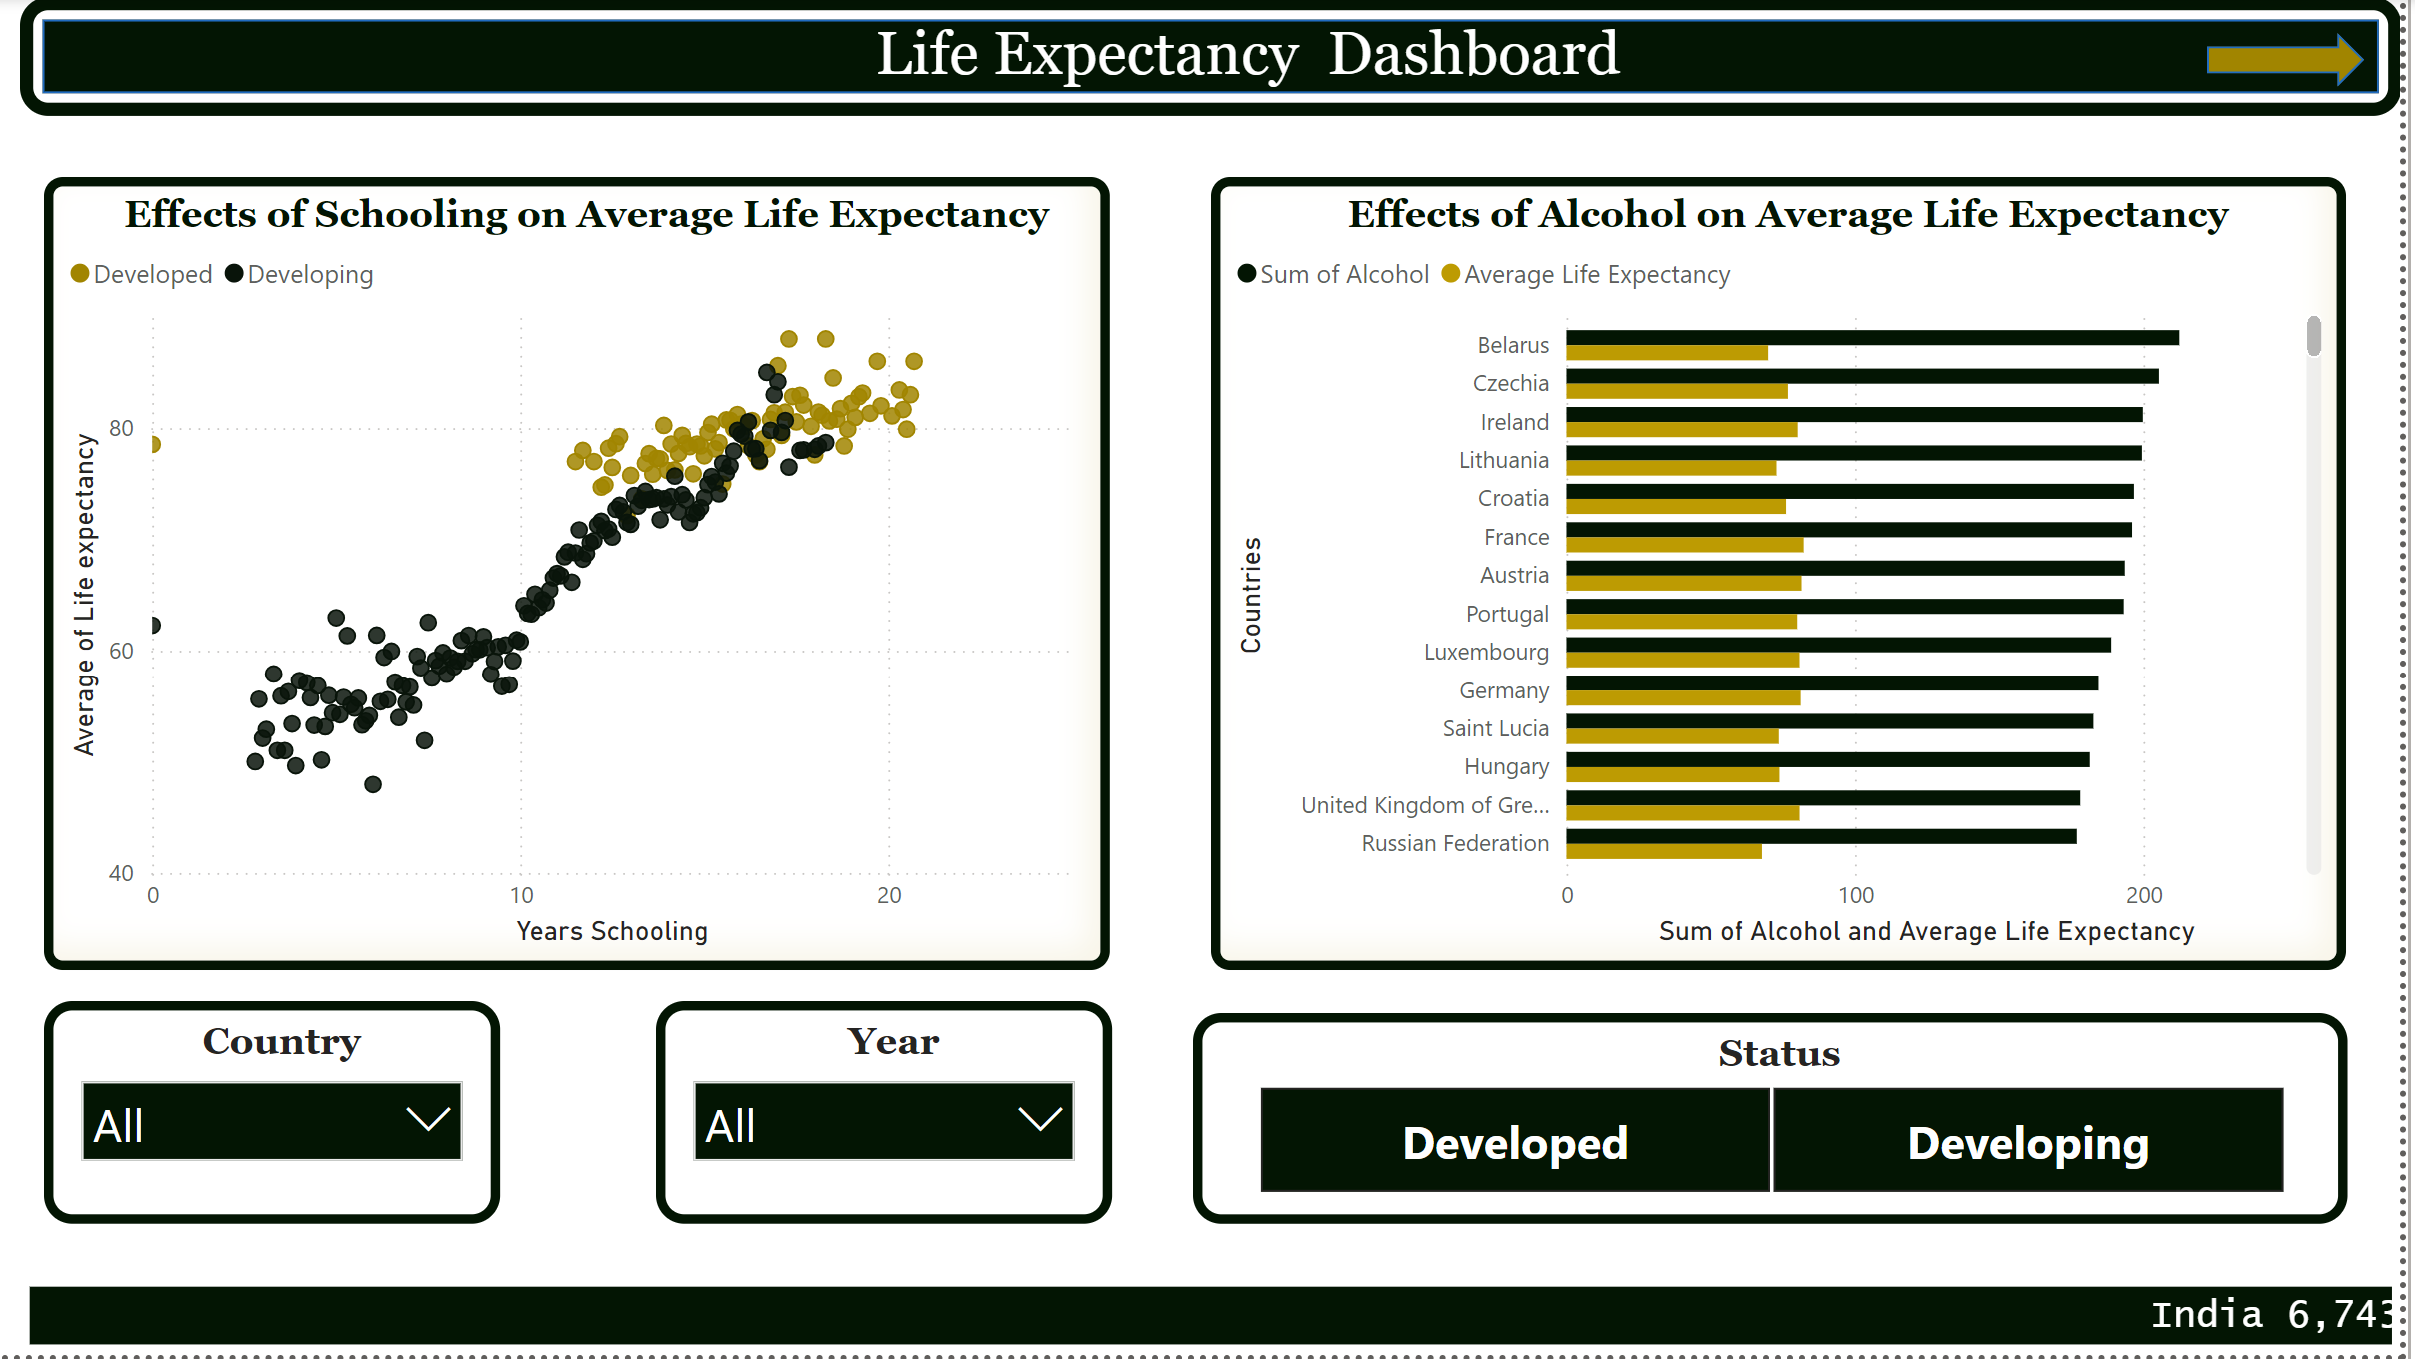

What the dashboard file says about the page in this screenshot:
{"tool":"powerbi","page":{"name":"Socioeconomic &Lifestyle ","canvas":[1280,720],"ordinal":1},"visuals":[{"type":"shape","box":[18.3,0,1261.7,63],"z":0},{"type":"textbox","box":[363.7,6.1,611.6,56.9],"z":1000},{"type":"clusteredBarChart","title":"Effects of Alcohol on Average Life Expectancy ","fields":{"Category":["Life Expentency.Country"],"Y":["Sum(Life Expentency.Alcohol)","Life Expectancy Measures.Average Life Expectancy"]},"box":[650.2,95.5,601.4,420.6],"z":2000},{"type":"ScrollingTextVisual1448795304508","fields":{"Measure Absolute":["Sum(Life Expentency.Population)"],"Category":["Life Expentency.Country"]},"box":[18.3,678.6,1261.7,40.6],"z":3000},{"type":"scatterChart","title":"Effects of Schooling on Average Life Expectancy ","fields":{"Y":["Avg(Life Expentency.Life expectancy)"],"X":["Life Expentency.Schooling"],"Series":["Life Expentency.Status"]},"box":[32.5,95.5,564.8,420.6],"z":4000},{"type":"slicer","title":"Country","fields":{"Values":["Life Expentency.Country"]},"box":[32.5,532.3,241.8,117.8],"z":5000},{"type":"slicer","title":"Year","fields":{"Values":["Life Expentency.Year"]},"box":[355.6,532.3,241.8,117.8],"z":6000},{"type":"slicer","title":"Status","fields":{"Values":["Life Expentency.Status"]},"box":[640,538.4,611.6,111.7],"z":7000},{"type":"shape","box":[1178.4,18.3,83.3,28.4],"z":8000}]}

Visuals, with their boxes in screenshot pixels (x1, y1, x2, y2), scaled from the page's 1280x720 canvas onto the 2415x1359 screenshot:
shape: <region>35, 0, 2414, 119</region>
textbox: <region>686, 12, 1840, 119</region>
"Effects of Alcohol on Average Life Expectancy " clusteredBarChart: <region>1227, 180, 2361, 974</region>
ScrollingTextVisual1448795304508 - Sum(Life Expentency.Population) x Life Expentency.Country: <region>35, 1281, 2414, 1357</region>
"Effects of Schooling on Average Life Expectancy " scatterChart: <region>61, 180, 1127, 974</region>
"Country" slicer: <region>61, 1005, 518, 1227</region>
"Year" slicer: <region>671, 1005, 1127, 1227</region>
"Status" slicer: <region>1208, 1016, 2361, 1227</region>
shape: <region>2223, 35, 2380, 88</region>
